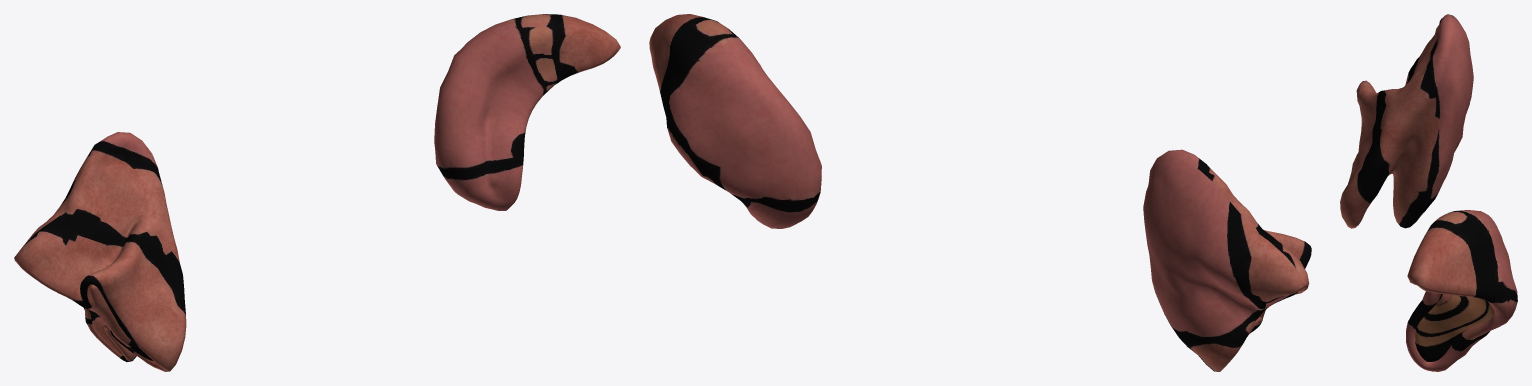
The model's file is Endocrine.Endocrine_Adrenal_glands.Adrenal_gland_Right.obj.
3 renders of one model, left to right at view 1: azimuth 30°, elevation 25°; view 2: azimuth 150°, elevation 25°; view 3: azimuth 270°, elevation 25°, orthographic. The views are drawn at different scales.
Visible parts, largest first — view 1: Endocrine:Endocrine_Adrenal_glands:Adrenal_gland_Right_Endocrine; view 2: Endocrine:Endocrine_Adrenal_glands:Adrenal_gland_Right_Endocrine; view 3: Endocrine:Endocrine_Adrenal_glands:Adrenal_gland_Right_Endocrine.
Boxes of the visible parts, <box> form: Endocrine:Endocrine_Adrenal_glands:Adrenal_gland_Right_Endocrine: <box>14,14,620,371</box>; Endocrine:Endocrine_Adrenal_glands:Adrenal_gland_Right_Endocrine: <box>649,14,1311,371</box>; Endocrine:Endocrine_Adrenal_glands:Adrenal_gland_Right_Endocrine: <box>1340,14,1517,371</box>.
Bounding box in the file's own units: 0.5434 × 0.1936 × 0.1373.
